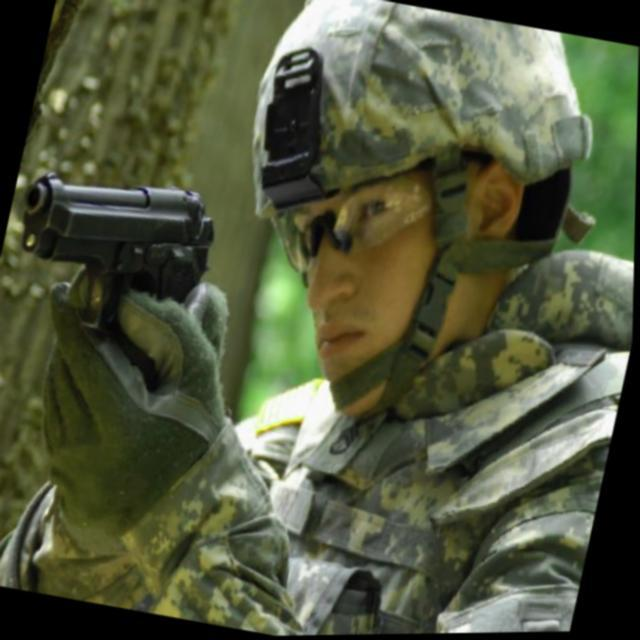weapon: (0, 156, 229, 354)
